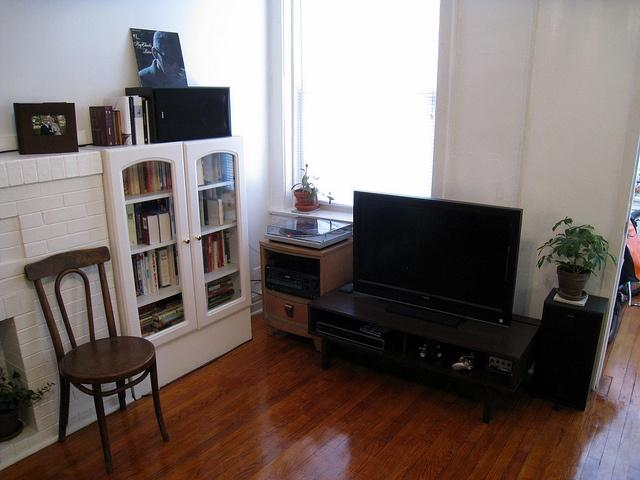AIO PC-Monitor-TV: (349, 189, 524, 330)
Kursi: (23, 245, 170, 474)
Lemari: (105, 134, 251, 350)
